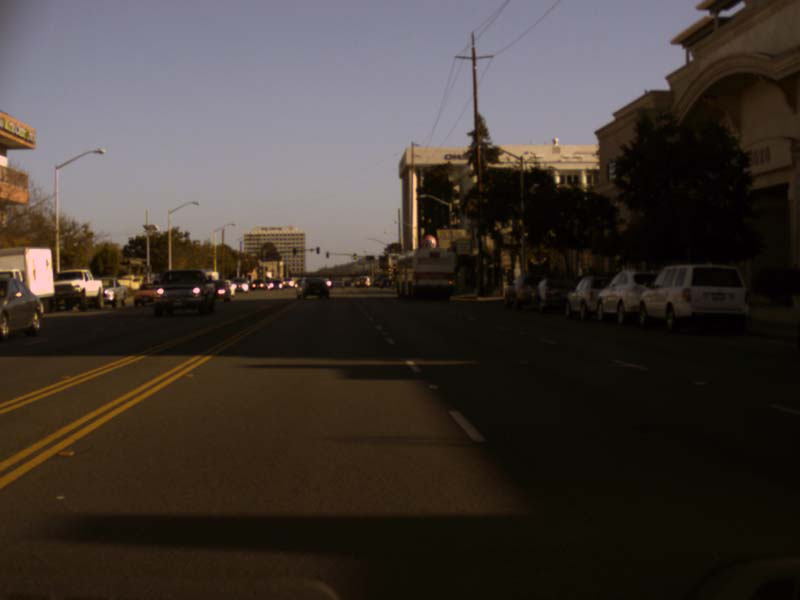Yellow: (353, 254, 356, 259)
